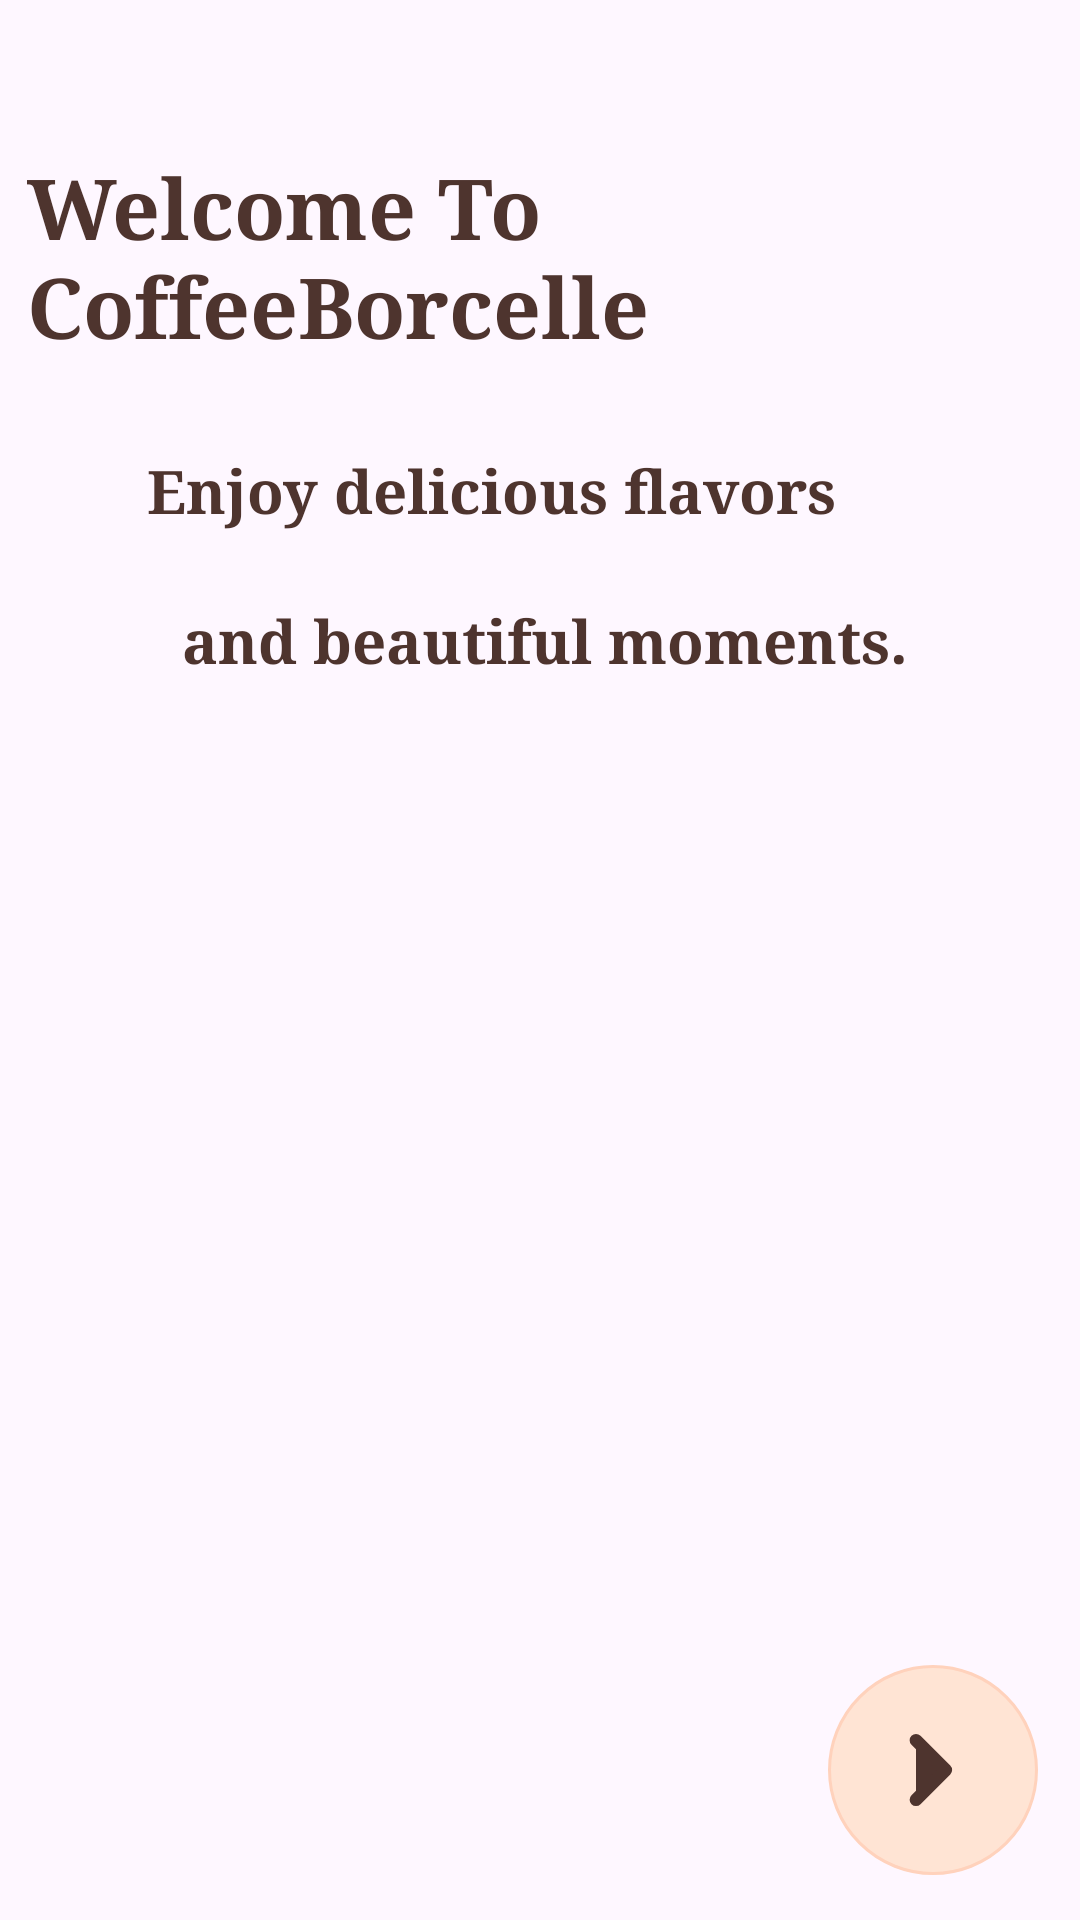

Named icons in this screenshot (1080×1920) and their bounding boxes, bbox=[x1, y1, x2, y2]:
arrow: bbox=[828, 1665, 1038, 1875]
